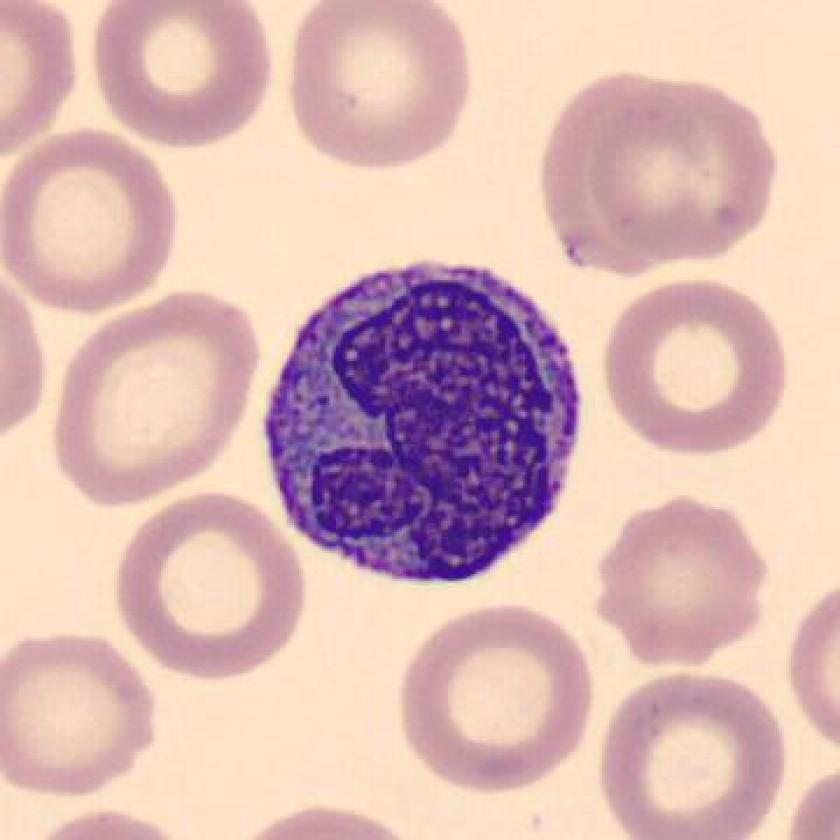monocyte: (246, 242, 603, 605)
